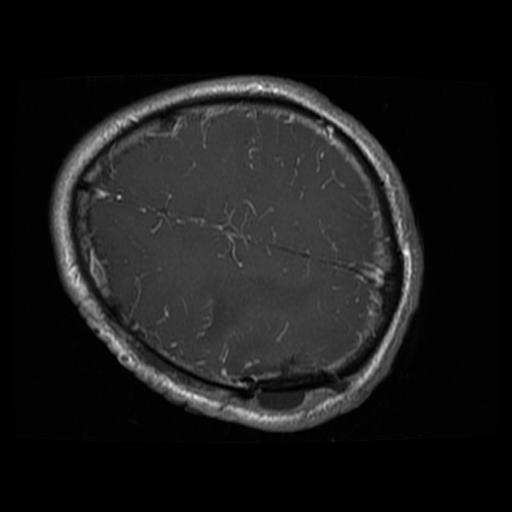glioma: (239, 356, 345, 409)
